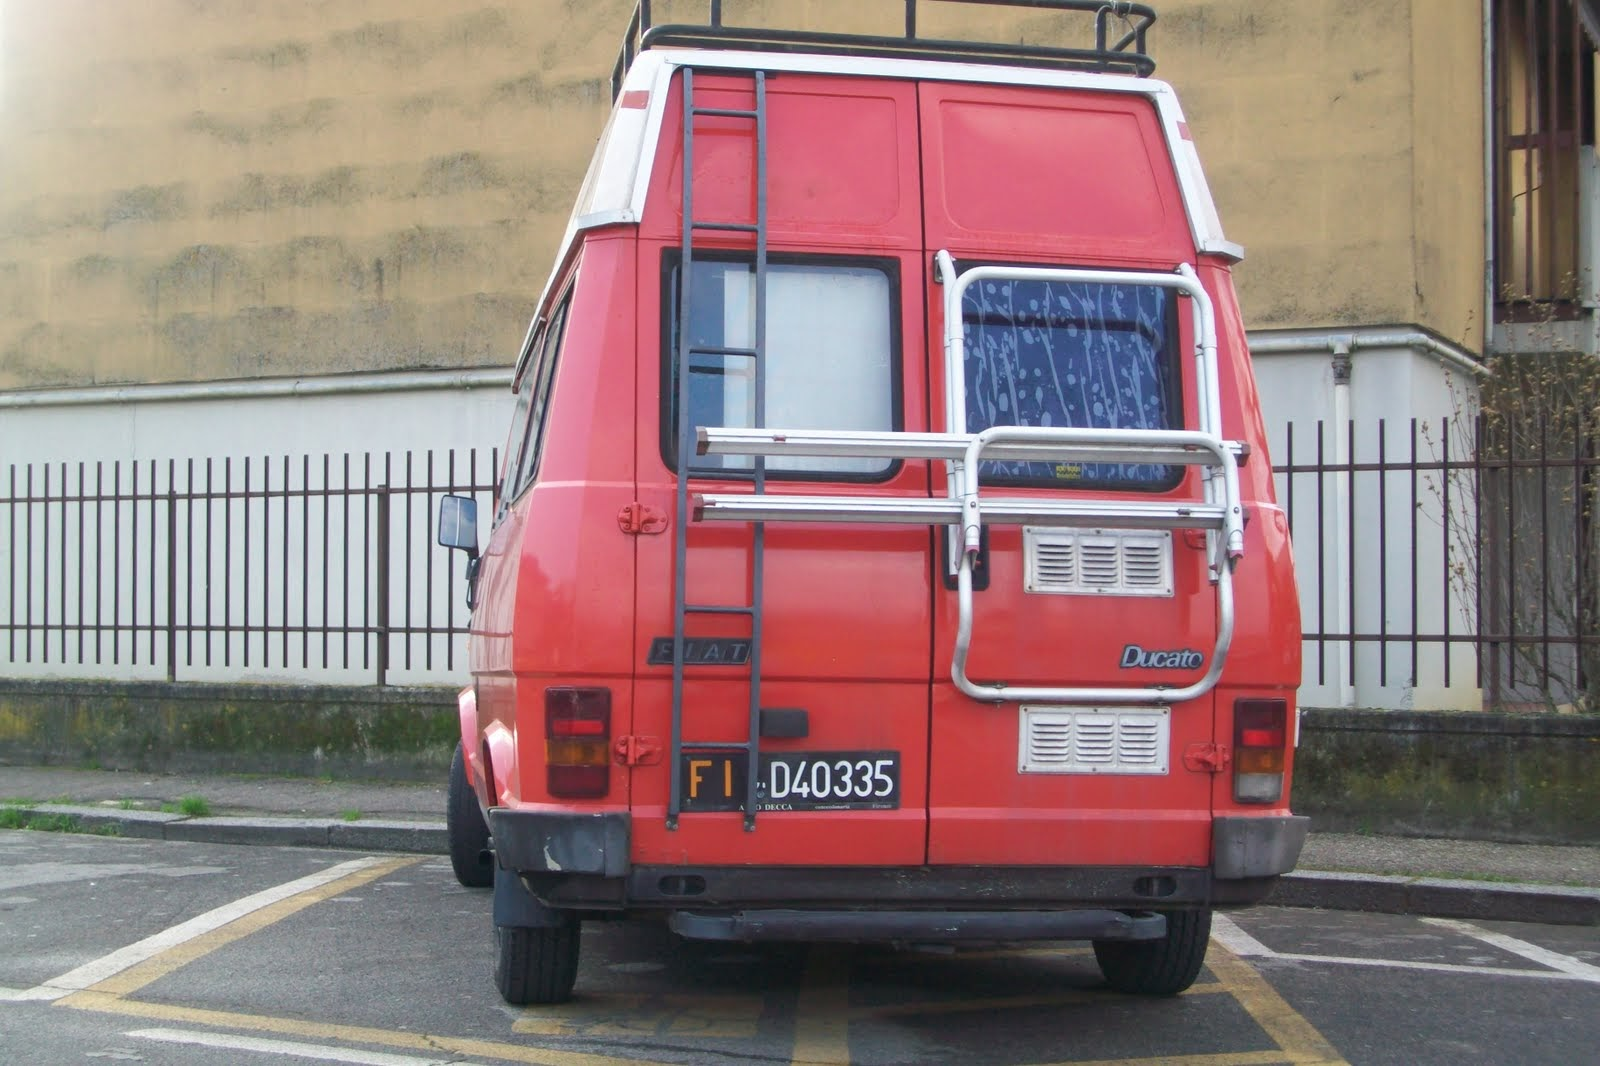car: (376, 52, 1463, 1051)
